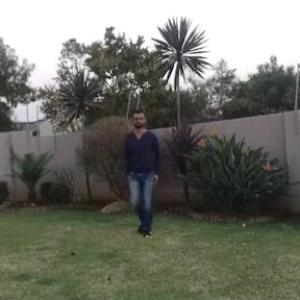follow: (126, 113, 159, 229)
